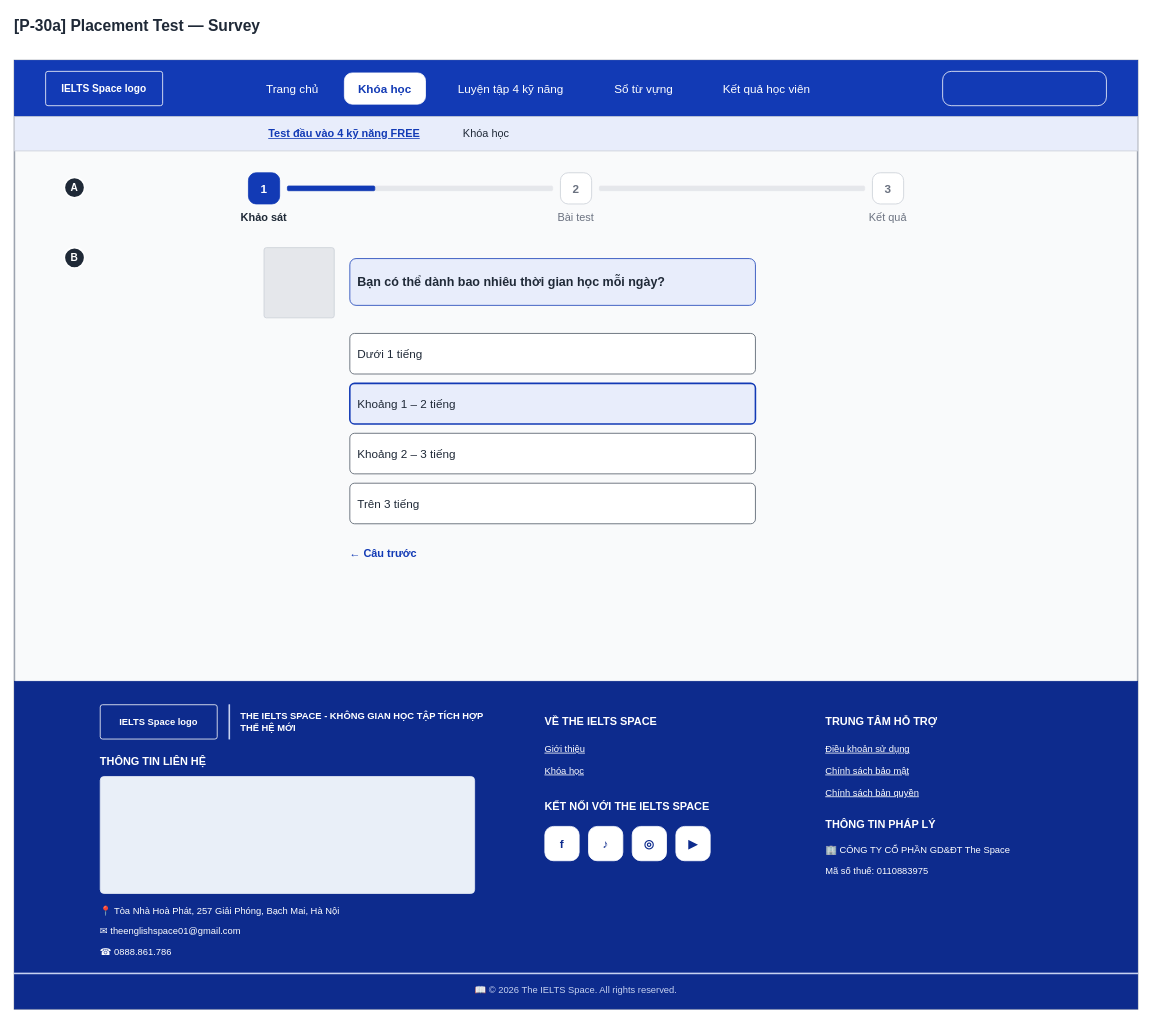
Image size: 1151x1023. Some labels were removed from this diagram. The centre of each missing label's shape, as x and y in pixels:
▨ Mascot: pixel 298 282
◯ Học viên · 30 Points ▾: pixel 1024 88
📍 The IELTS Space Mở trong Maps ↗: pixel 287 834
